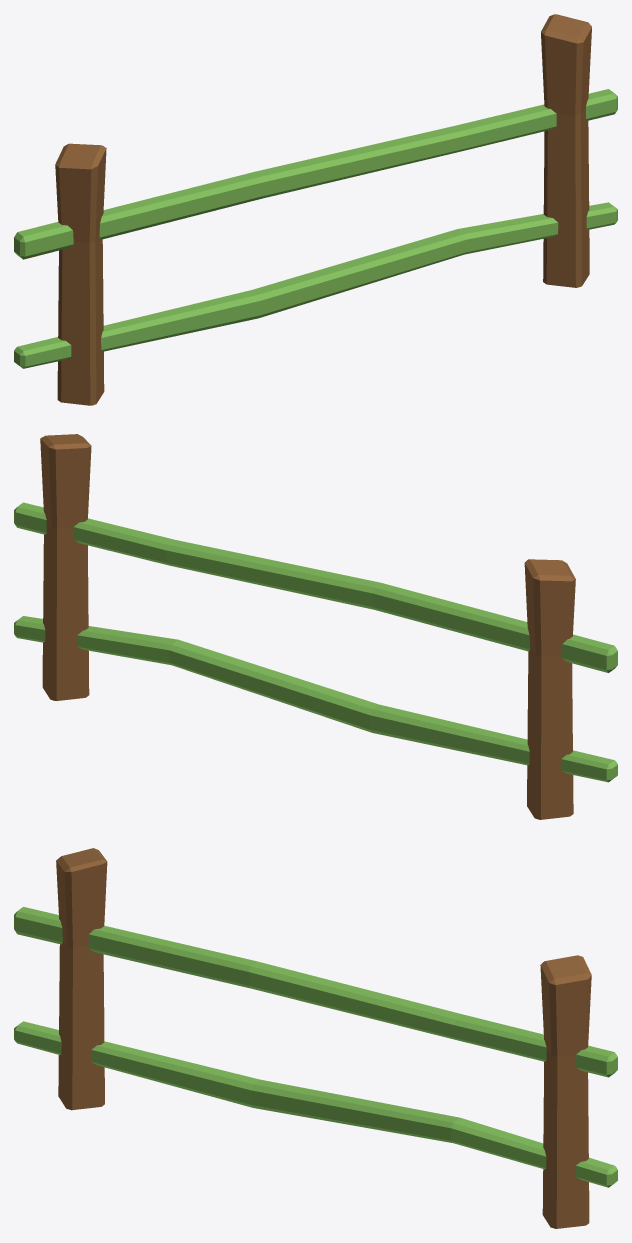
File: fence_d.gltf
3 views of the same model, one above another, from view 1: azimuth 30°, elevation 25°; view 2: azimuth 150°, elevation 25°; view 3: azimuth 330°, elevation 25° (orthographic).
Parts seen in each view (by area): view 1: fence_d002; view 2: fence_d002; view 3: fence_d002.
Part boxes in pixels (x1,y1,x2,y2): fence_d002: [14, 14, 617, 405]; fence_d002: [14, 434, 617, 819]; fence_d002: [14, 848, 617, 1228].
Bounding box in the file's own units: 1.41 × 0.5778 × 0.1139.
Materials: 1 (1 with a texture image).
